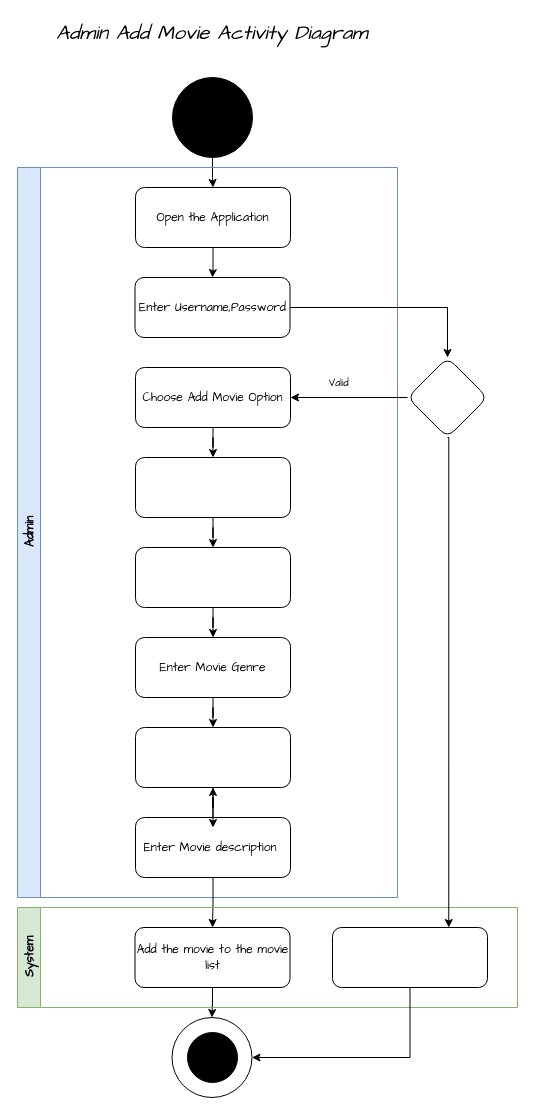
Image size: 535x1115. Some labels were removed from this diagram. The centre of each missing label's shape, as x and y in pixels:
Enter Movie duration: (212,577)
Enter Movie name: (212,487)
Enter Movie rating: (212,757)
Show Error Message: (410,957)
